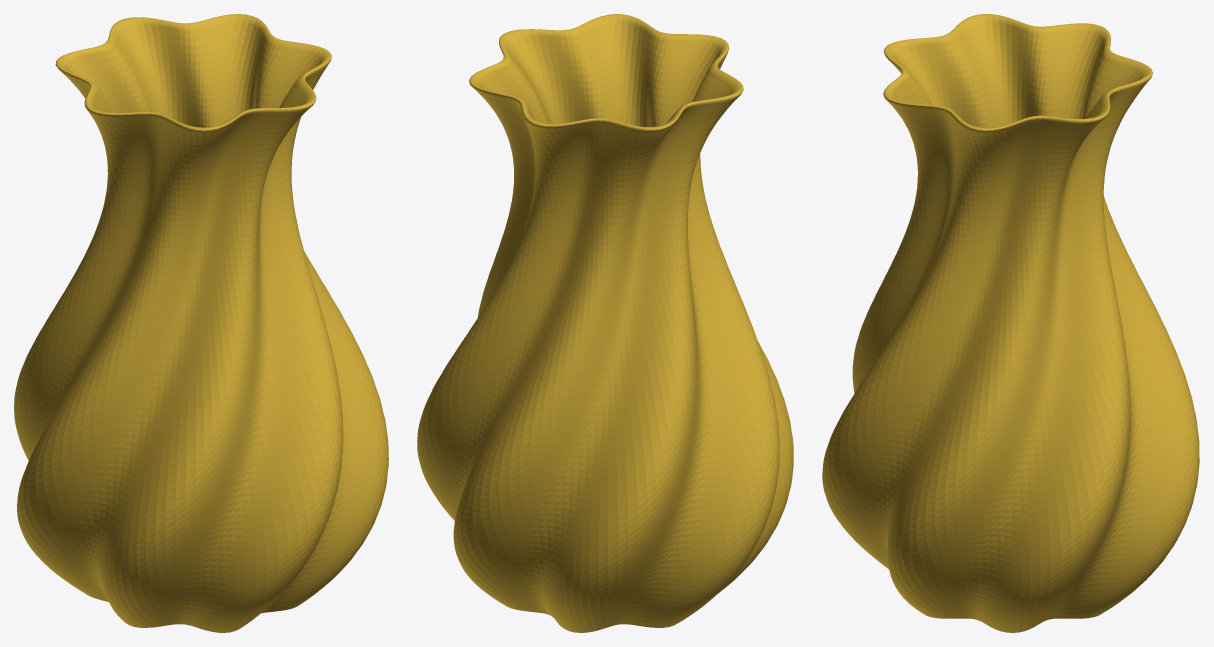
File: openscad.fluted-vase.glb
The picture shows the model from 3 angles, left to right: view 1: azimuth 30°, elevation 25°; view 2: azimuth 150°, elevation 25°; view 3: azimuth 270°, elevation 25°; orthographic projection.
Parts seen in each view (by area): view 1: Elegant Vase; view 2: Elegant Vase; view 3: Elegant Vase.
Part boxes in pixels (bbox=[...]): Elegant Vase: bbox=[14, 14, 388, 632]; Elegant Vase: bbox=[417, 14, 793, 632]; Elegant Vase: bbox=[822, 14, 1199, 632].
Bounding box in the file's own units: 0.1316 × 0.2 × 0.1329.
